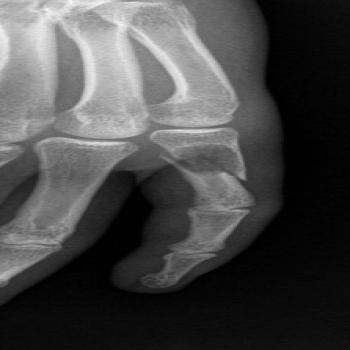Fracture: (151, 142, 267, 184)
